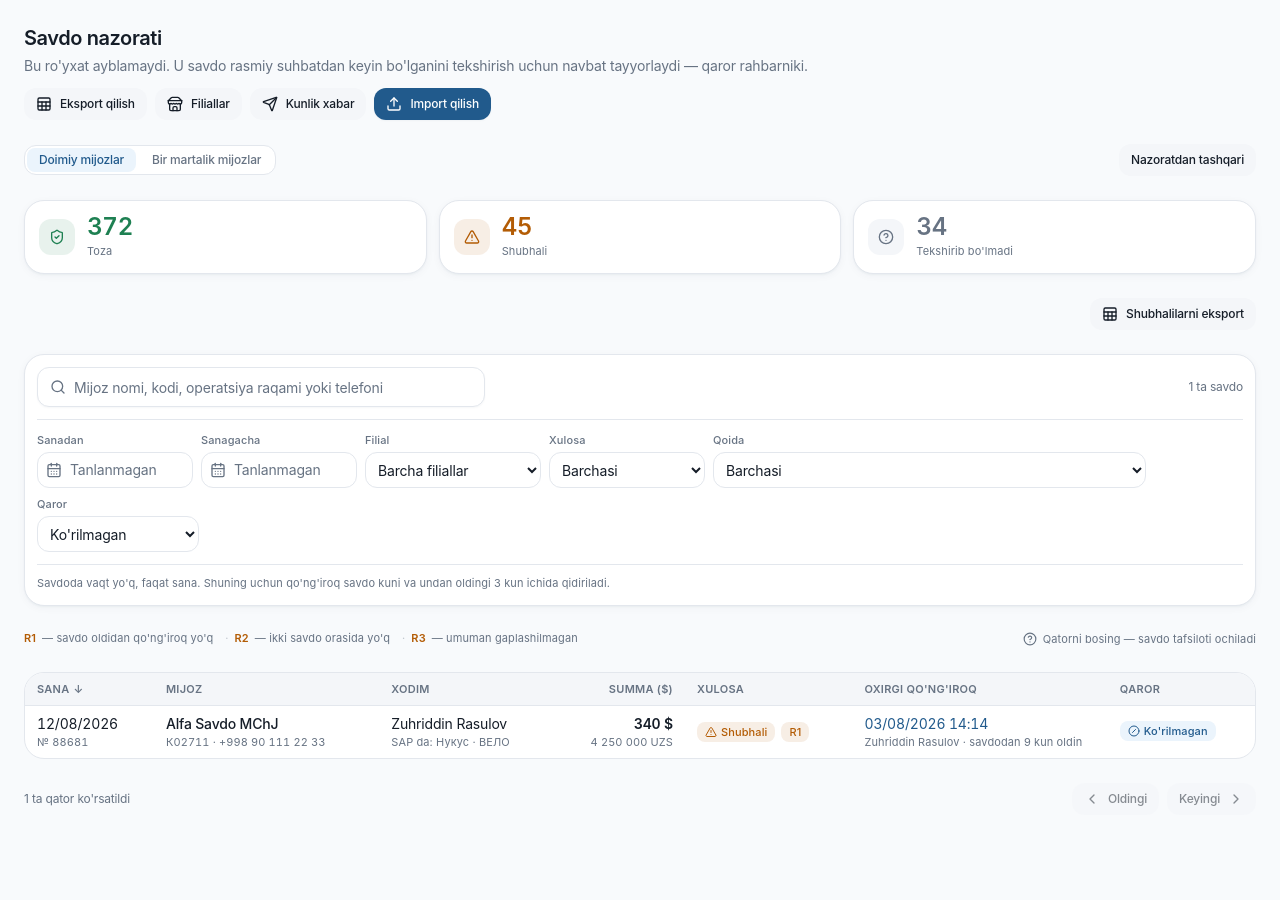
the sale card › offers "put back" for a customer already out of scope
What coordinates should you click on to do the following:
click the text "№ 88681"
I would click on:
 (63, 742)
Its box is [37, 735, 88, 749].
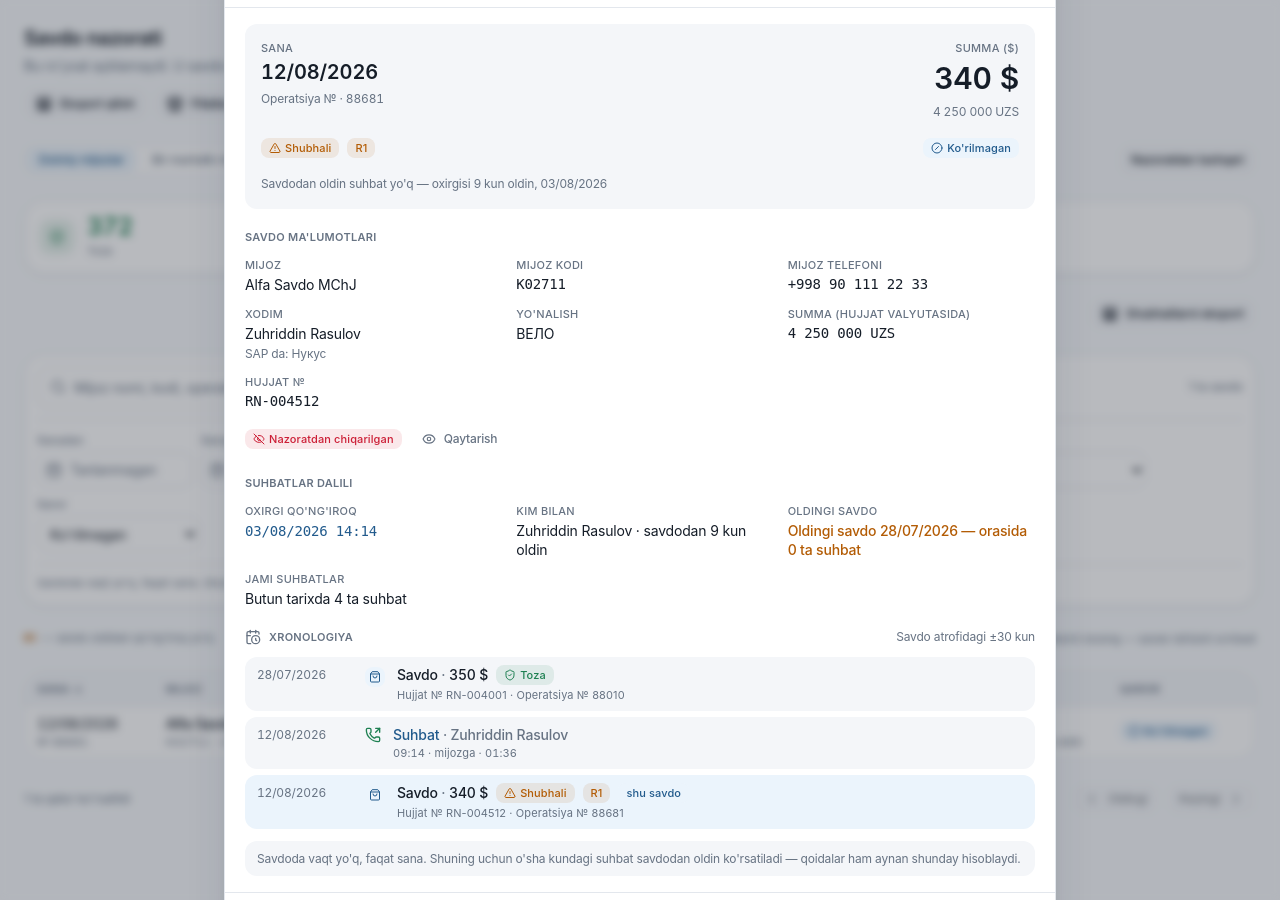
expect the button "Qaytarish" is shown: met, box [410, 423, 509, 455]
